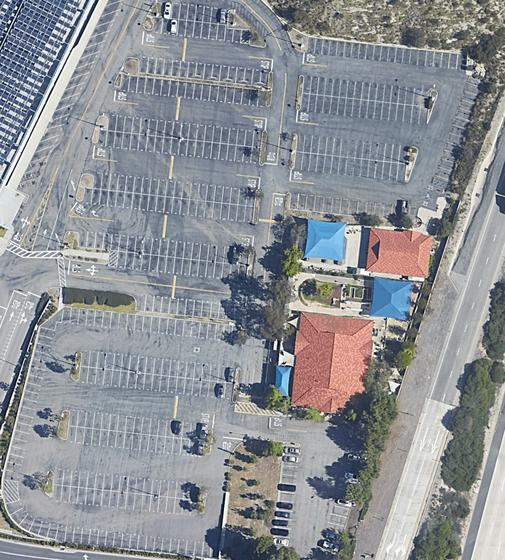parkingspot: (18, 0, 126, 185), (5, 499, 221, 560), (2, 326, 56, 482), (61, 306, 242, 344), (82, 187, 255, 225), (77, 229, 251, 266), (92, 170, 258, 208), (96, 129, 262, 166), (316, 444, 367, 560), (306, 36, 469, 72), (434, 74, 488, 182), (107, 112, 264, 148), (80, 348, 237, 384), (78, 366, 235, 402), (119, 74, 269, 109), (52, 467, 202, 501), (52, 484, 202, 518), (68, 408, 209, 442), (66, 425, 207, 458), (302, 74, 432, 108), (300, 92, 430, 126), (138, 55, 270, 88), (116, 250, 248, 283), (289, 192, 420, 223), (293, 150, 408, 182), (296, 133, 410, 165), (135, 292, 244, 322), (272, 446, 302, 546), (151, 16, 243, 45), (162, 0, 230, 26), (421, 183, 448, 212)
